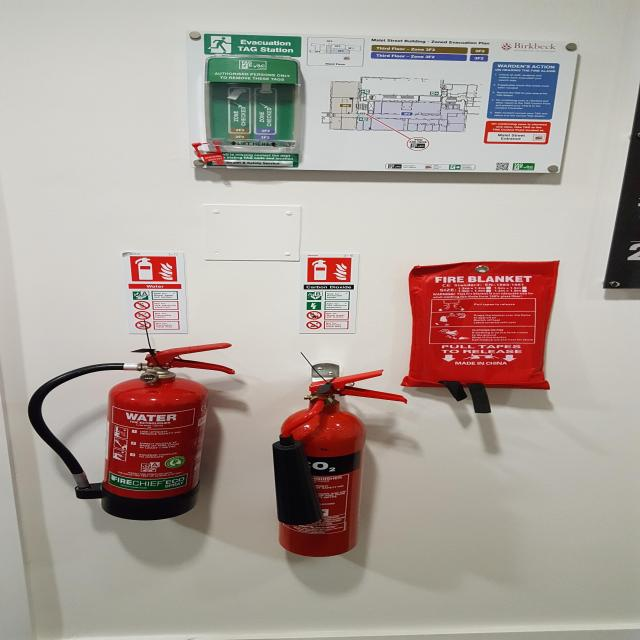fire_extinguisher: (21, 341, 242, 521), (264, 368, 412, 558)
